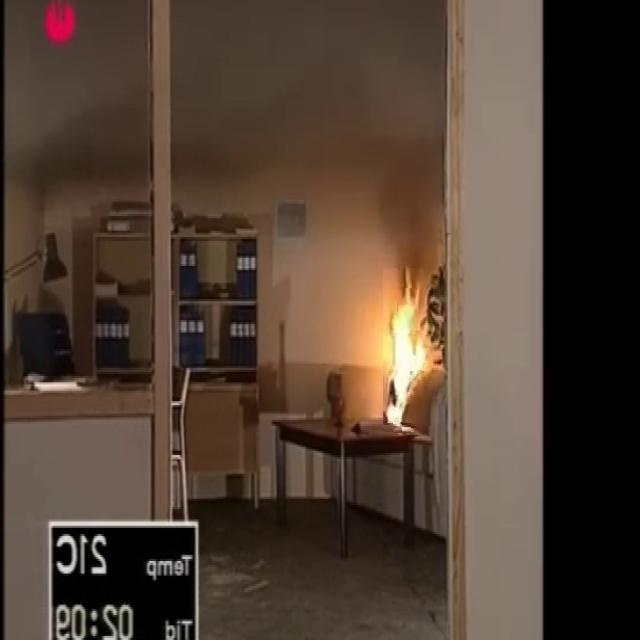fire: (372, 266, 435, 425)
